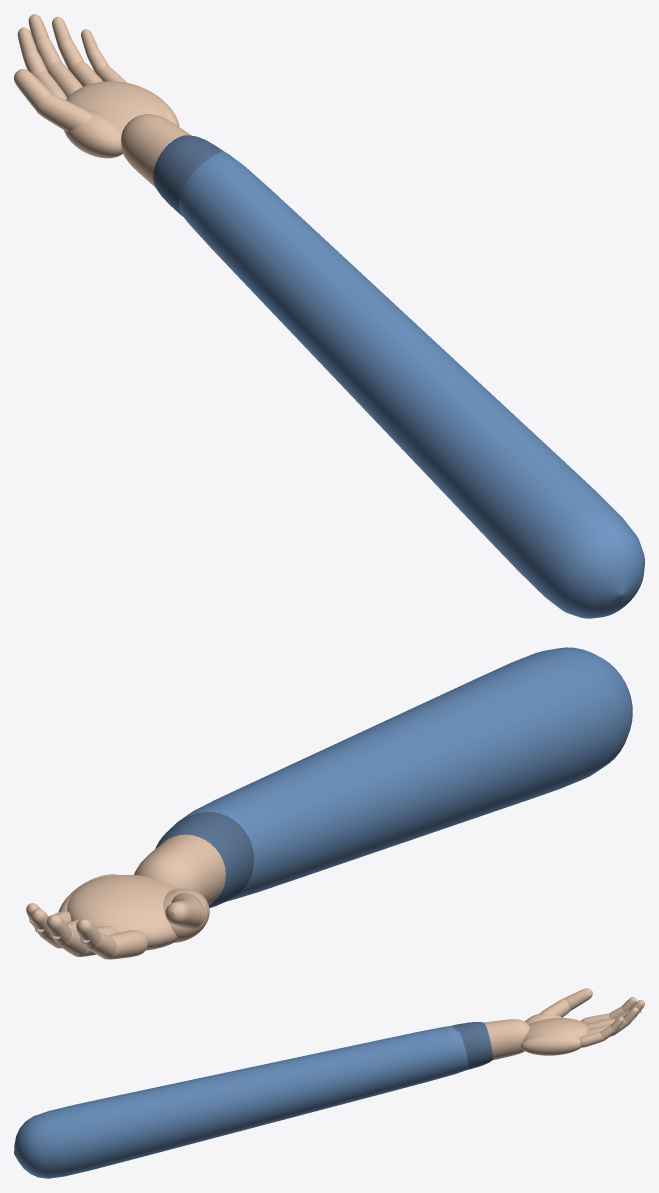
Rendered from fp_hand.glb.
3 renders of one model, top to bottom at view 1: azimuth 30°, elevation 25°; view 2: azimuth 150°, elevation 25°; view 3: azimuth 270°, elevation 25°, orthographic. The views are drawn at different scales.
Visible parts, largest first — view 1: FP_RightHand; view 2: FP_RightHand; view 3: FP_RightHand.
Part boxes in pixels (x1,y1,x2,y2): FP_RightHand: (14, 14, 644, 618); FP_RightHand: (26, 647, 632, 959); FP_RightHand: (14, 988, 644, 1178).
Size of the model in its own units: 0.1697 by 0.2336 by 0.8579.
